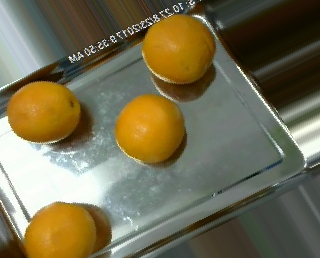Orange: (141, 13, 216, 84), (116, 93, 187, 163), (6, 81, 80, 143), (22, 200, 97, 258)
